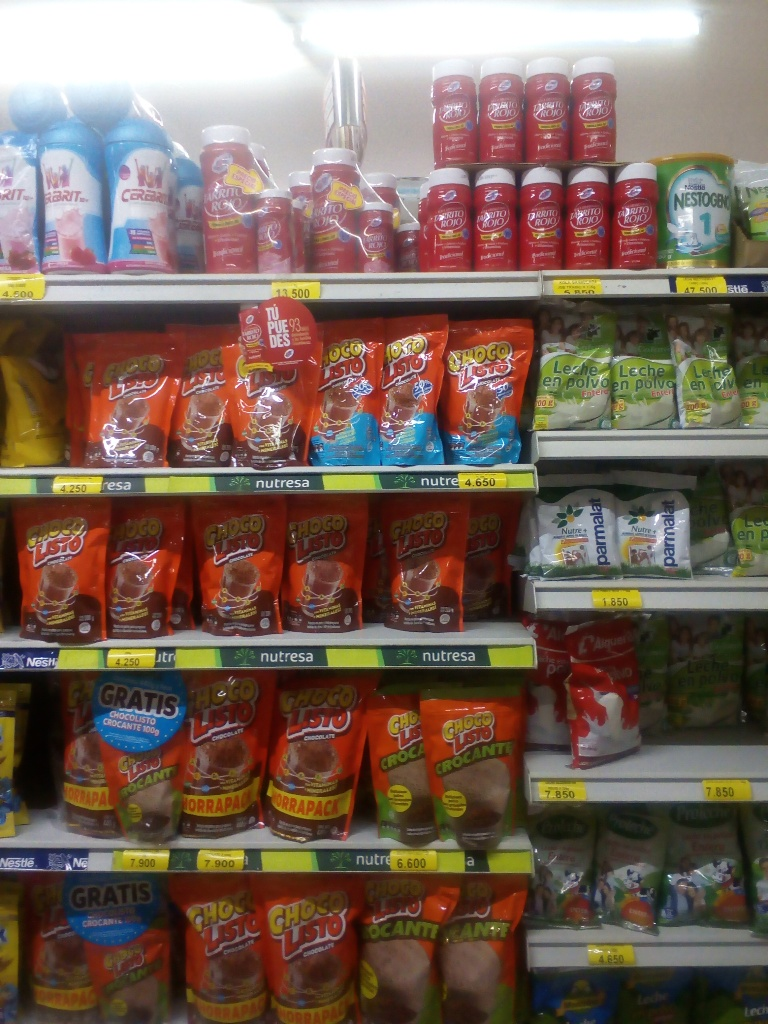COL0170102DYP10000: (96, 730, 186, 844)
COL0170102DYP25000: (424, 688, 527, 849)
COL0170102DYP50000: (439, 879, 525, 1022)
COL0170103DYP20000: (382, 497, 465, 636)
COL0170103DYP44000: (269, 675, 375, 851)
COL0170104DYP20000: (449, 319, 534, 472)
